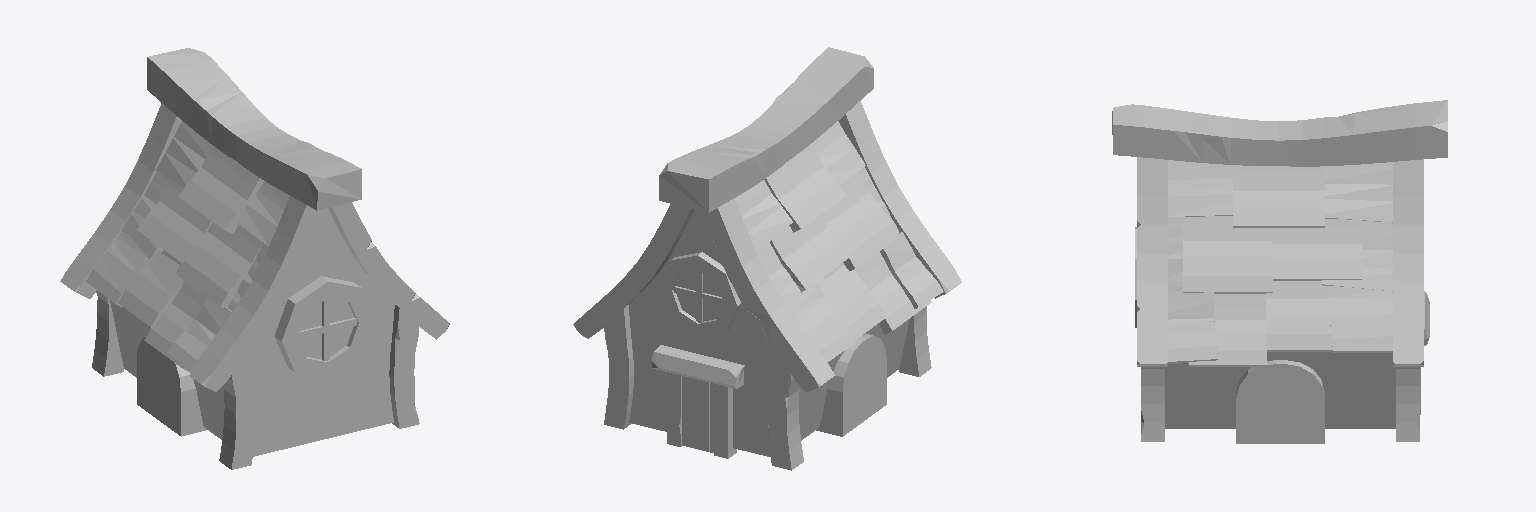
The model's file is house.obj.
3 views of the same model, side by side, from view 1: azimuth 30°, elevation 25°; view 2: azimuth 150°, elevation 25°; view 3: azimuth 270°, elevation 25° (orthographic).
Parts seen in each view (by area): view 1: cartoon_house; view 2: cartoon_house; view 3: cartoon_house.
Boxes of the visible parts, box(x1,y1,x2,y2) form: cartoon_house: box(60, 48, 449, 469); cartoon_house: box(573, 47, 961, 470); cartoon_house: box(1112, 100, 1447, 443).
Size of the model in its own units: 3.13 by 3.46 by 3.67.